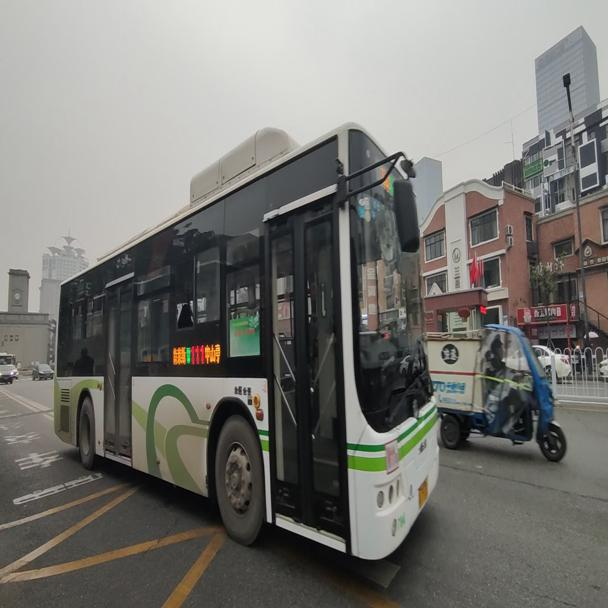bus: (53, 117, 438, 564)
screen: (190, 337, 205, 367)
